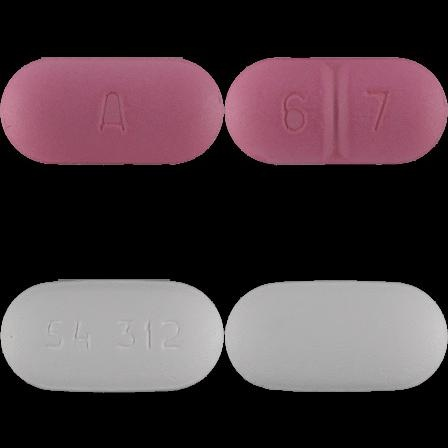10544-950: (0, 0, 224, 224)
